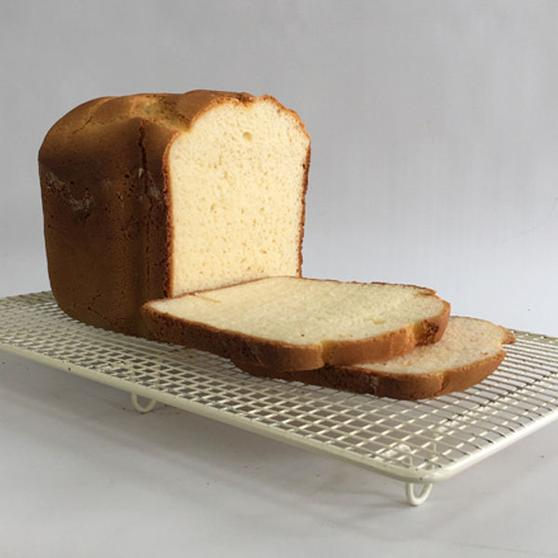white_bread: (44, 94, 305, 334)
